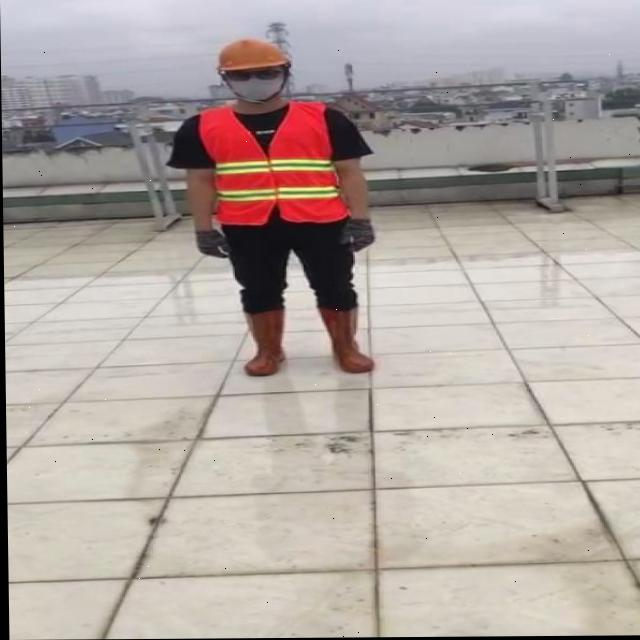Gloves: (339, 218, 374, 253), (194, 229, 229, 258)
Helmet: (215, 38, 291, 104)
Safety-Boot: (316, 304, 373, 374), (241, 308, 285, 375)
Safety-Vest: (196, 100, 348, 227)
